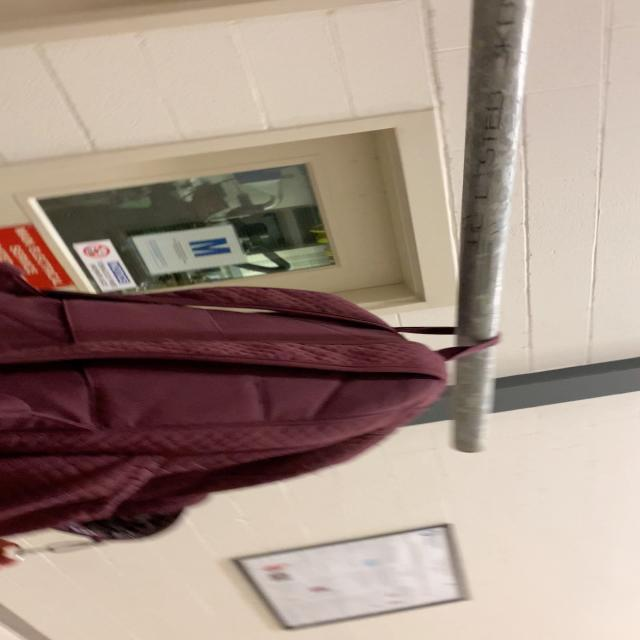Backpacks: (0, 282, 454, 540)
